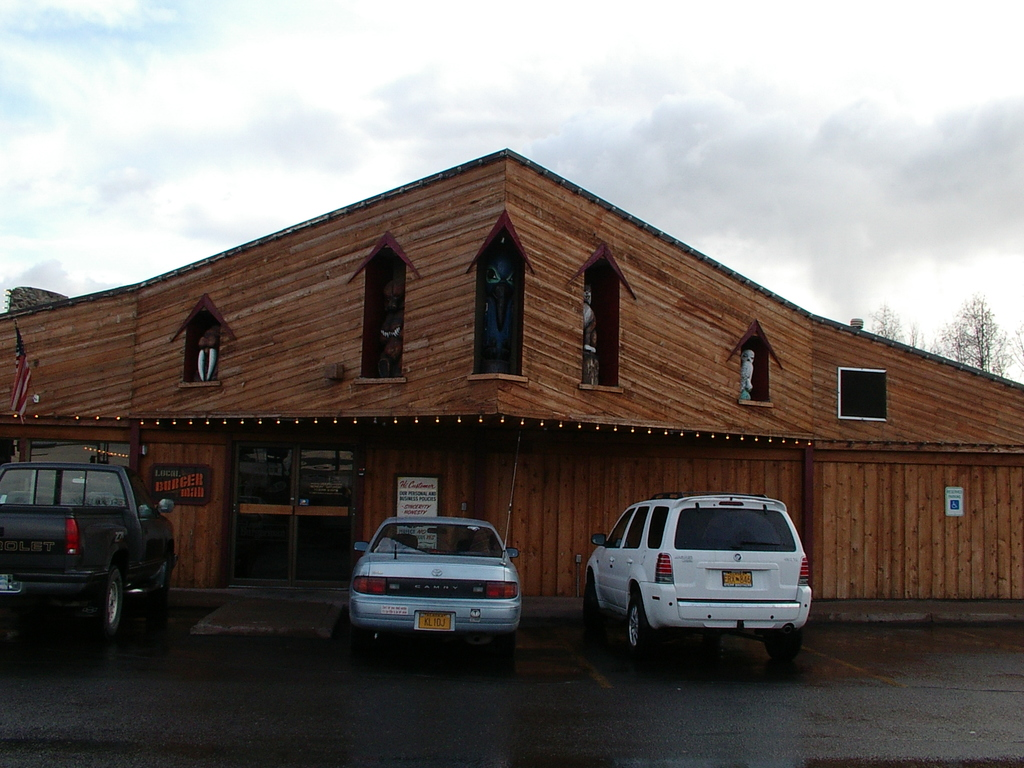license plate: (417, 608, 452, 626), (724, 571, 749, 587)
